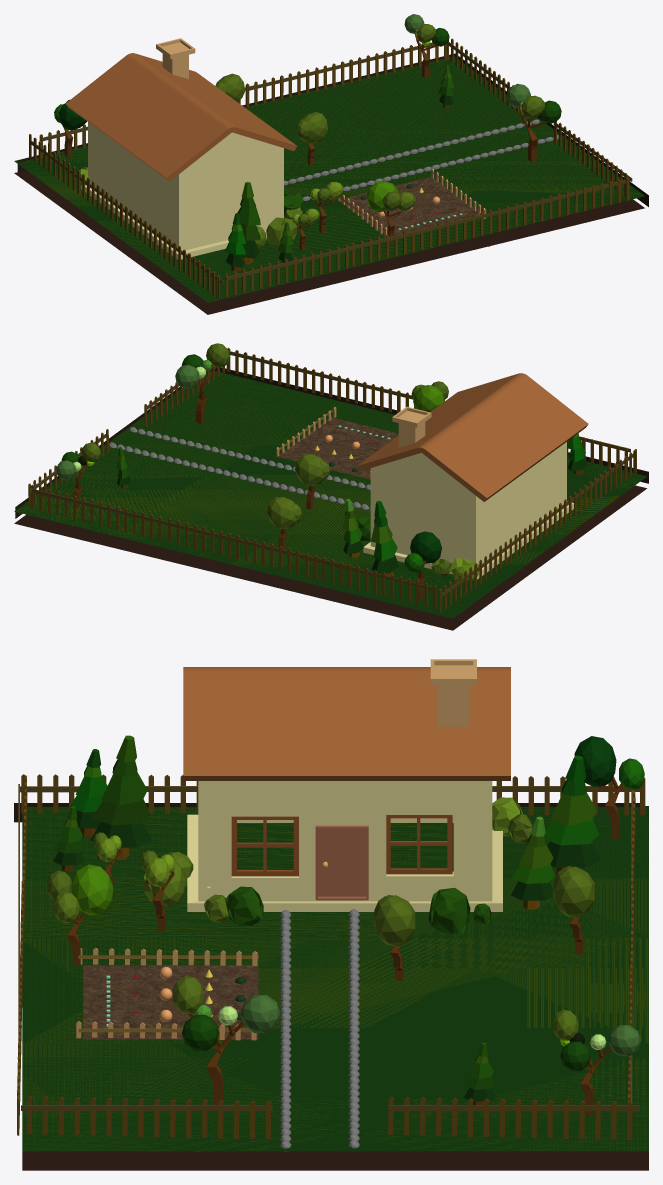
Rendered from Farm.fbx.
3 views of the same model, one above another, from view 1: azimuth 30°, elevation 25°; view 2: azimuth 150°, elevation 25°; view 3: azimuth 270°, elevation 25° (orthographic). The views are drawn at different scales.
Parts seen in each view (by area): view 1: Plane, Cube, Plane.001, rOOF, Plane.020, Plane.026, Plane.024, Plane.018, Plane.025, Plane.009, Plane.017, Plane.023 (+15 smaller); view 2: Plane, Plane.001, Cube, rOOF, Plane.020, Plane.026, Plane.024, Plane.018, Plane.010, Plane.011, Plane.019, Plane.009 (+18 smaller); view 3: Plane, Plane.001, rOOF, Cube, Plane.020, Plane.026, Door, Plane.005, Plane.007, cHIMMNEY, Icosphere.013, Icosphere.012 (+30 smaller).
Boxes of the visible parts, box(x1,y1,x2,y2) form: Plane: box(14, 56, 644, 302); Cube: box(81, 122, 283, 259); Plane.001: box(15, 59, 644, 302); rOOF: box(65, 53, 296, 181); Plane.020: box(14, 170, 644, 314); Plane.026: box(340, 177, 479, 235); Plane.024: box(351, 176, 629, 266); Plane.018: box(105, 191, 219, 298); Plane.025: box(226, 179, 630, 280); Plane.009: box(315, 43, 447, 91); Plane.017: box(29, 134, 104, 212); Plane.023: box(216, 244, 348, 298); Plane: box(14, 370, 646, 618); Plane.001: box(15, 372, 645, 606); Cube: box(363, 442, 573, 579); rOOF: box(356, 373, 588, 501); Plane.020: box(14, 485, 646, 630); Plane.026: box(277, 417, 398, 479); Plane.024: box(226, 347, 414, 413); Plane.018: box(519, 449, 636, 555); Plane.010: box(168, 518, 299, 574); Plane.011: box(305, 553, 436, 609); Plane.019: box(15, 367, 648, 518); Plane.009: box(30, 484, 161, 540); Plane: box(22, 806, 648, 1151); Plane.001: box(22, 807, 648, 1151); rOOF: box(183, 667, 510, 780); Cube: box(187, 781, 502, 911); Plane.020: box(22, 1151, 648, 1170); Plane.026: box(83, 965, 258, 1039); Door: box(315, 825, 368, 900); Plane.005: box(388, 1096, 632, 1139); Plane.007: box(26, 1096, 271, 1139); cHIMMNEY: box(430, 659, 476, 726); Icosphere.013: box(348, 909, 359, 1148); Icosphere.012: box(280, 910, 291, 1151).
Bounding box in the file's own units: 54710 × 18998 × 42423.
